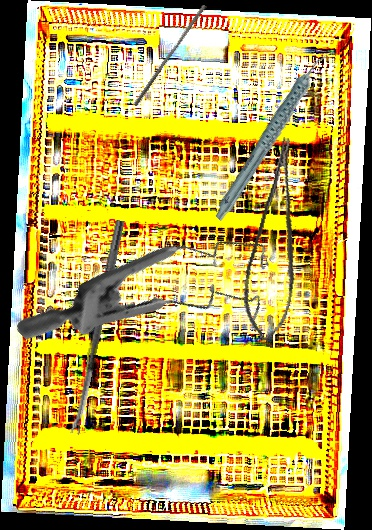Handpiece: (186, 52, 360, 223)
Micro Scissor: (230, 135, 329, 346)
Pusher: (133, 1, 207, 110)
Speculum: (13, 161, 298, 445)
Surgical Spoon: (69, 219, 125, 435)
